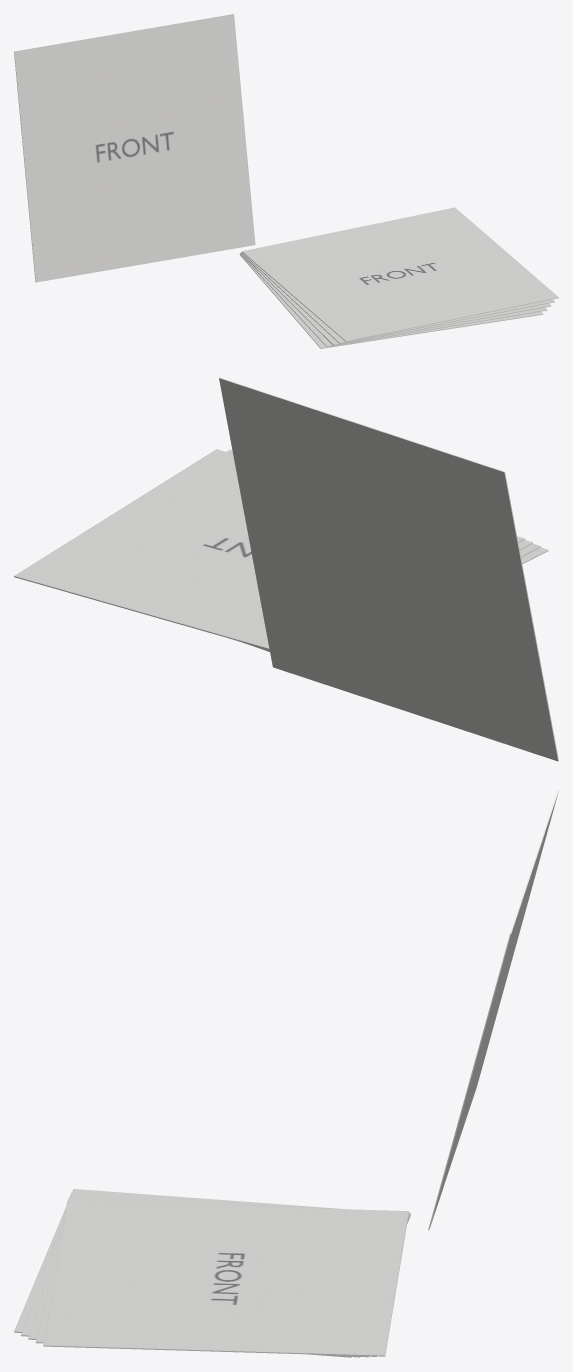
File: nail.glb
3 views of the same model, one above another, from view 1: azimuth 30°, elevation 25°; view 2: azimuth 150°, elevation 25°; view 3: azimuth 270°, elevation 25° (orthographic). The views are drawn at different scales.
Visible parts, largest first — view 1: standing_front, stack_05, stack_01, stack_04, stack_03, stack_02; view 2: standing_front, stack_05; view 3: stack_05, standing_front, stack_04, stack_02, stack_03, stack_01.
Part boxes in pixels (<box>): standing_front: <box>14,14,255,282</box>; stack_05: <box>242,207,558,341</box>; stack_01: <box>239,254,543,348</box>; stack_04: <box>241,252,554,343</box>; stack_03: <box>240,253,551,345</box>; stack_02: <box>240,253,547,347</box>; standing_front: <box>219,377,558,761</box>; stack_05: <box>14,449,269,649</box>; stack_05: <box>43,1201,408,1356</box>; standing_front: <box>428,790,558,1230</box>; stack_04: <box>35,1198,409,1356</box>; stack_02: <box>21,1192,410,1357</box>; stack_03: <box>28,1195,410,1357</box>; stack_01: <box>14,1189,410,1357</box>.
Bounding box in the file's own units: 0.1701 × 0.0874 × 0.1431.
3 materials, 2 textured.
